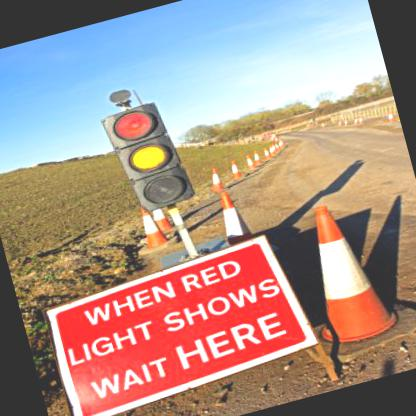cone: (272, 185, 415, 369), (211, 187, 254, 249), (132, 200, 168, 254), (201, 164, 228, 198), (223, 156, 245, 182)
